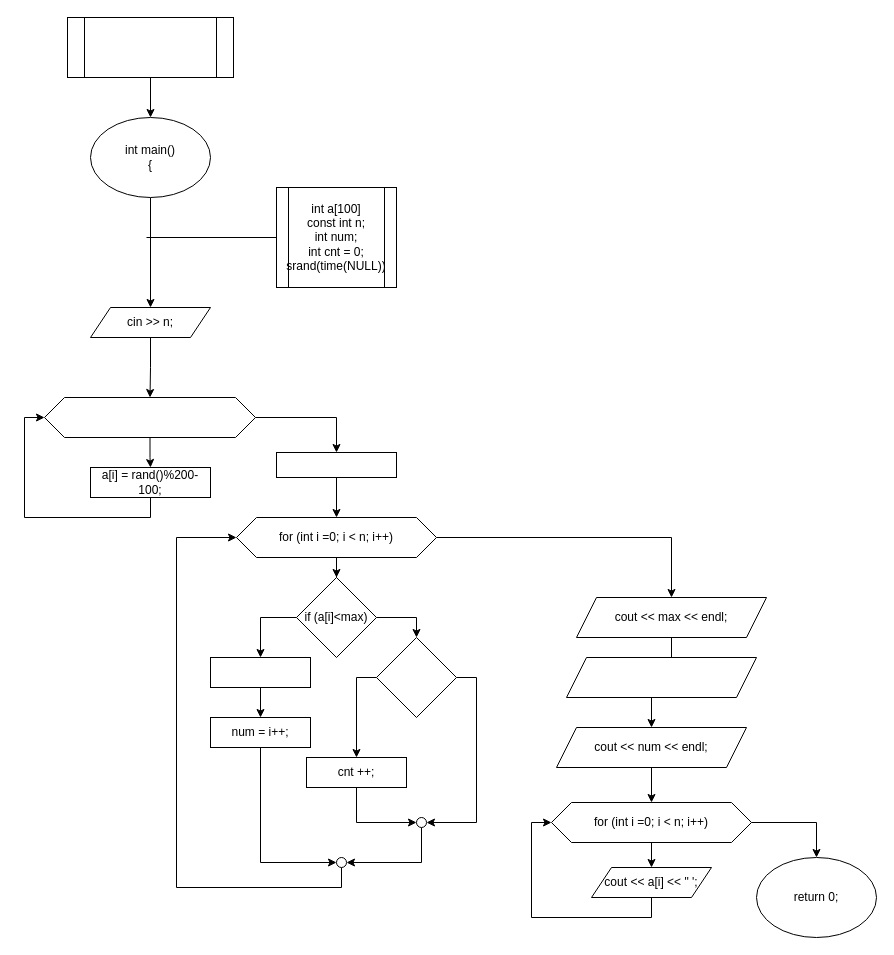
The diagram is 894 pixels wide and 955 high, and some of its shapes have lost their labels. Each missing label, with the centre of its shape:
"#include <iostream> #include <stdlib.h>" belongs at (x=150, y=47).
"cout << cnt << endl;" belongs at (x=661, y=677).
"for (int ii = 0; i < n; i++) {" belongs at (x=150, y=417).
"if(a[i]==max)" belongs at (x=416, y=677).
"int max = a[0];" belongs at (x=336, y=465).
"max = a[i];" belongs at (x=260, y=672).
